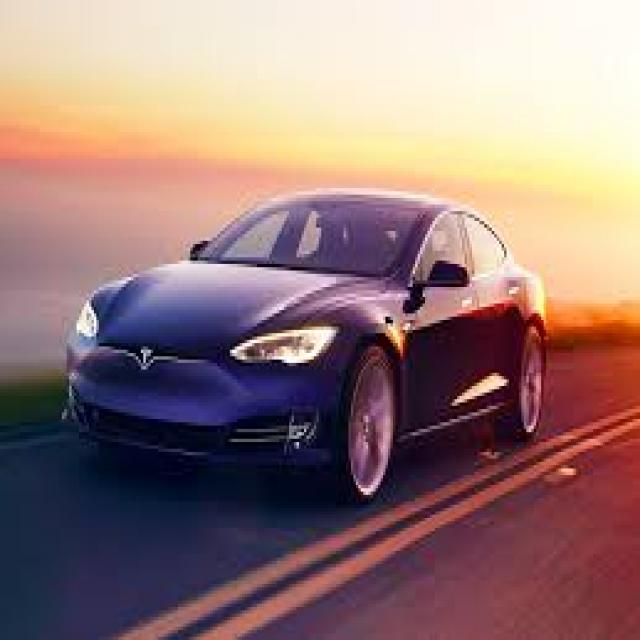Car: (56, 186, 561, 503)
